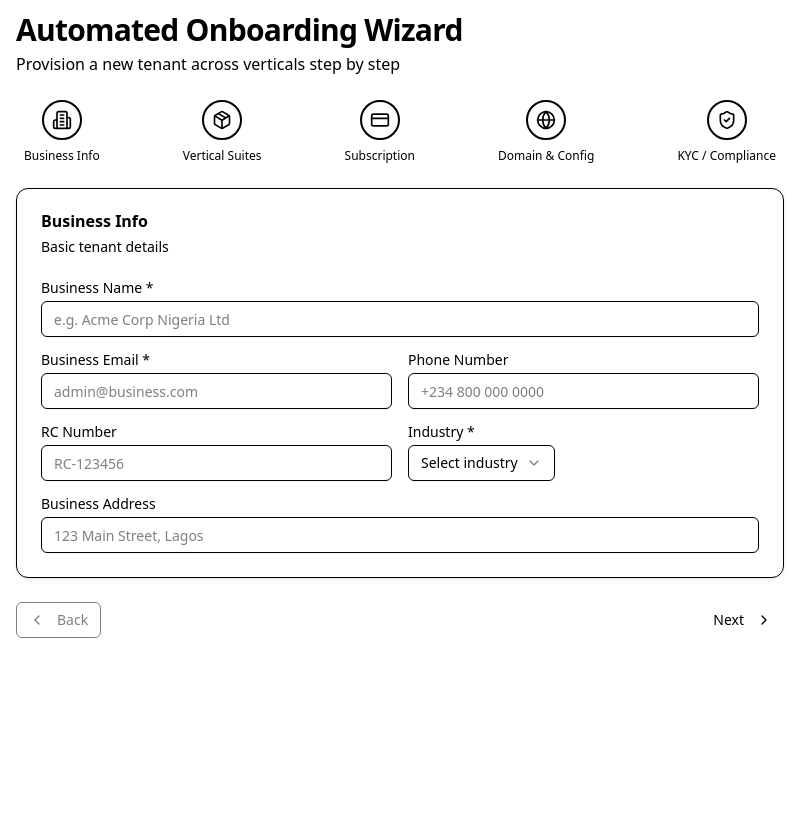
Test case: Automated Onboarding Wizard (QA-SUP-3) › advances to step 2 when step 1 is valid
In the field labelled "Business Name *": (400, 319) [41,301,759,337], type "Acme Corp"
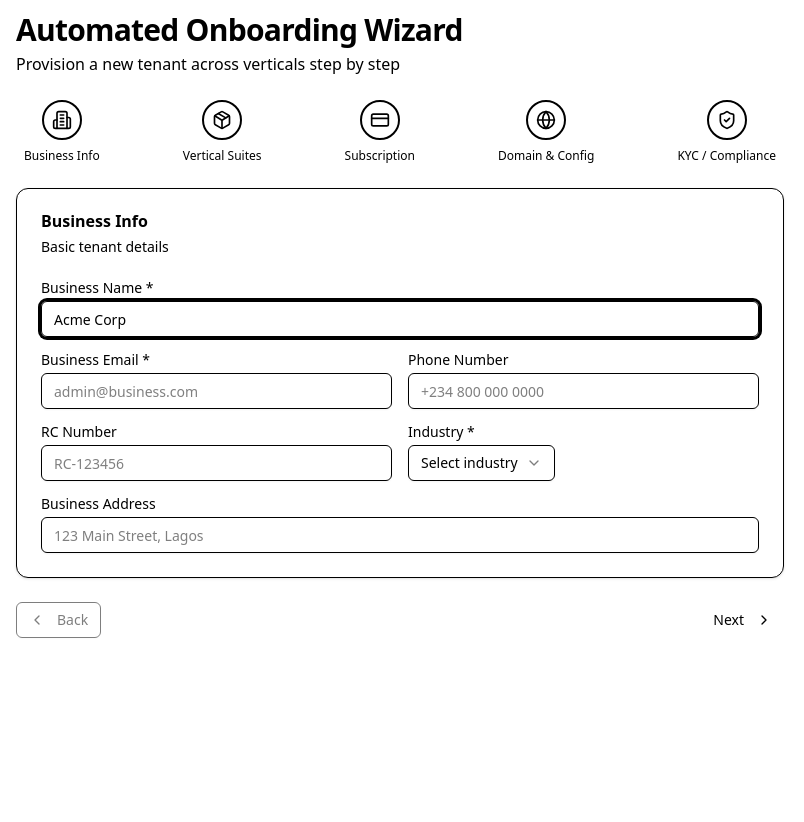
In the field labelled "Business Email *": (216, 391) [41,373,392,409], type "admin@acmecorp.ng"
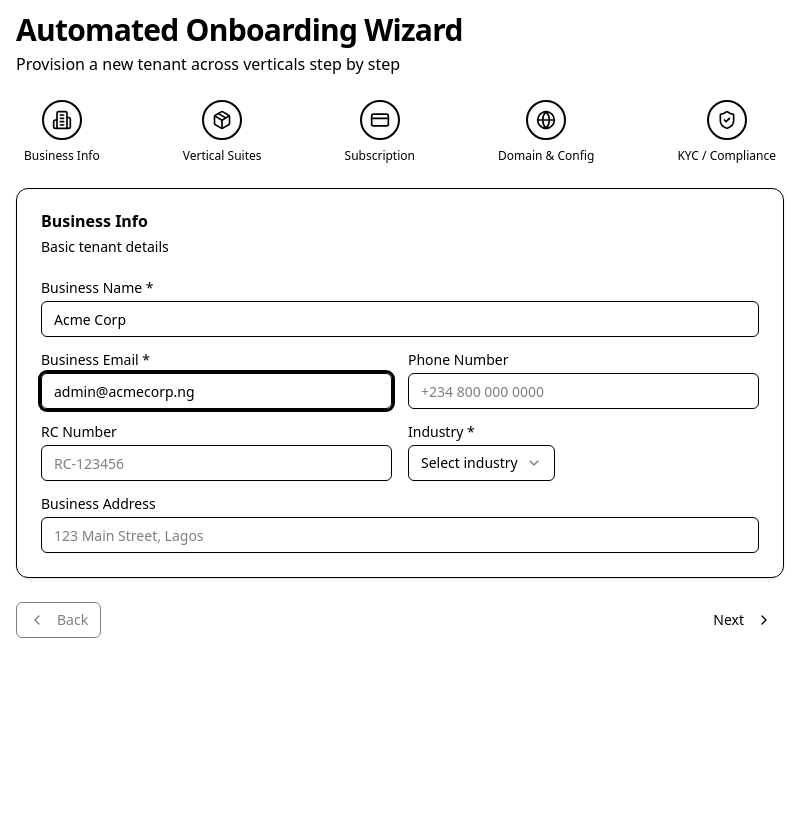
Note: Select industry using combobox
Click the dropdown: click(481, 463) [408,445,555,481]
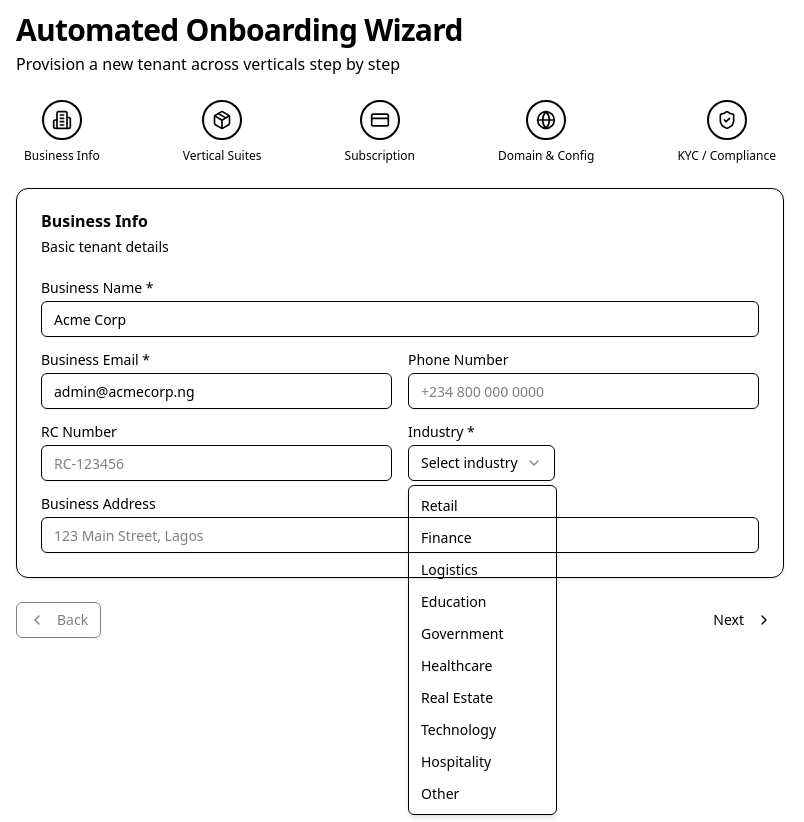
Click the option "Retail": click(439, 506) [421,496,458,515]
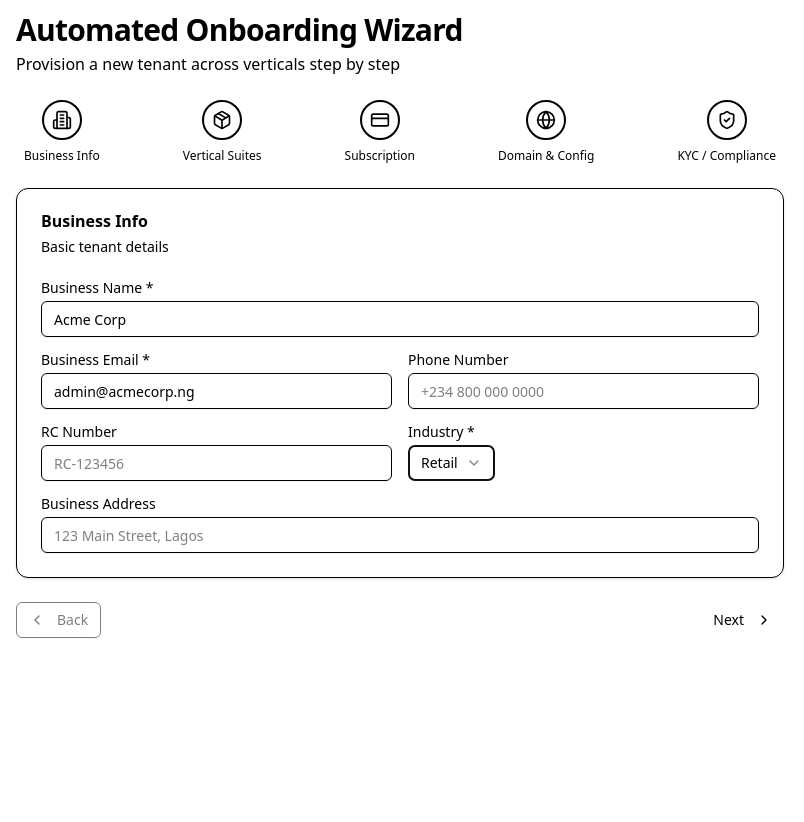
Click the button "Next": click(743, 620) [701,602,784,638]
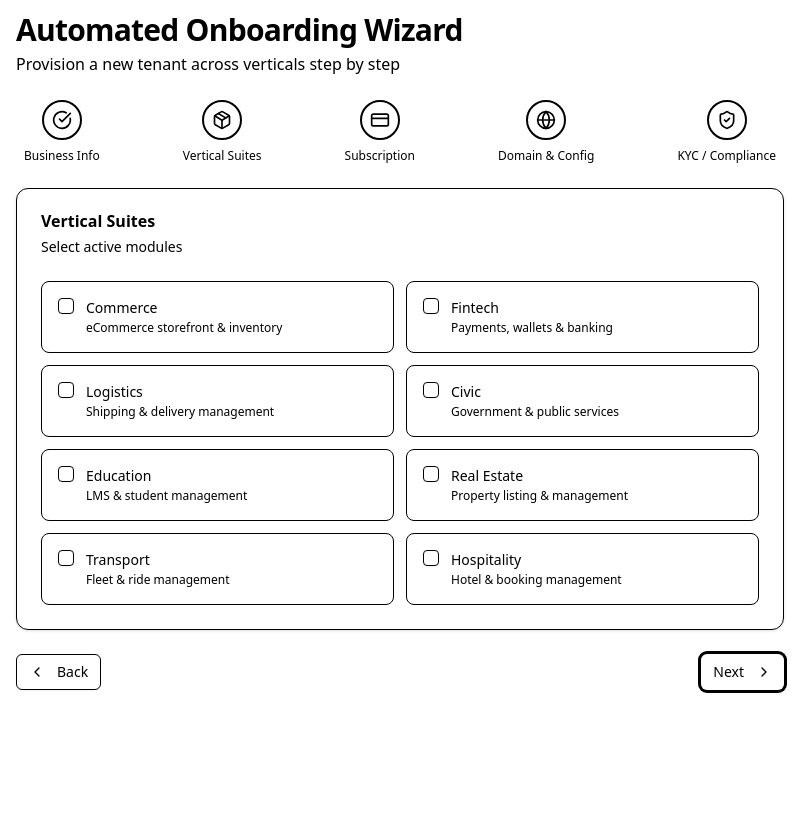
Expected: the text "Select active modules" is shown, [41,237,182,256]
